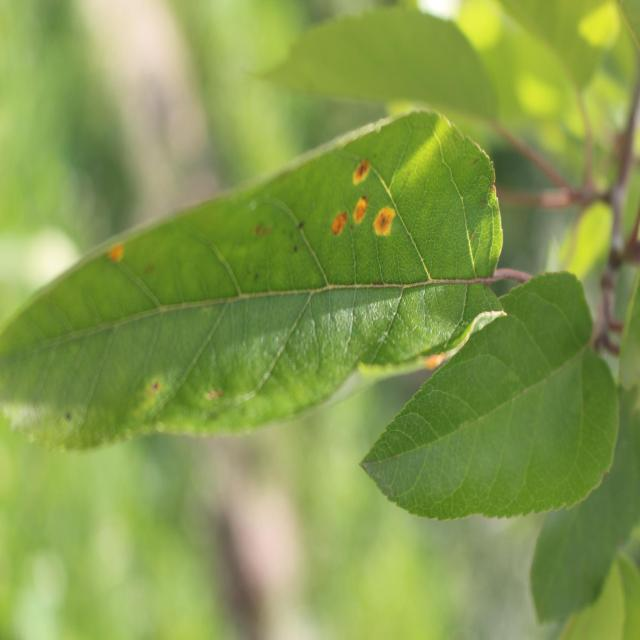Rust: (105, 235, 130, 276), (348, 157, 376, 190), (373, 206, 401, 238), (328, 207, 350, 245), (354, 192, 372, 229)
